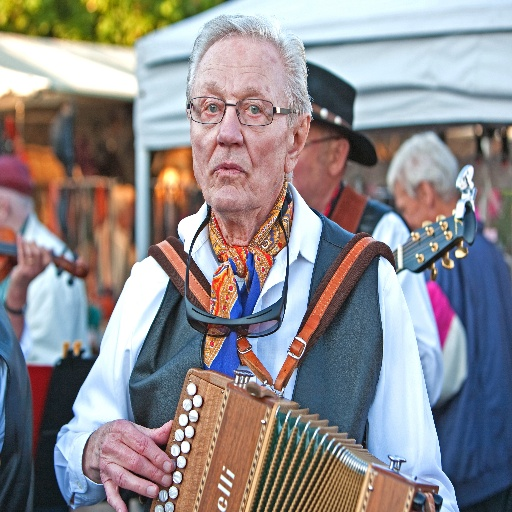hand: (84, 413, 176, 492), (9, 230, 50, 285)
